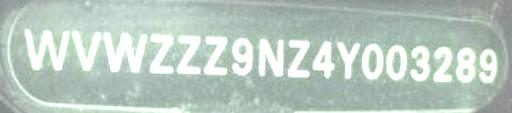letter: (21, 24, 67, 71), (100, 31, 144, 74), (68, 28, 100, 71), (144, 31, 174, 74), (254, 37, 286, 76), (202, 35, 230, 74), (176, 33, 200, 74), (286, 37, 310, 78), (312, 39, 336, 78), (336, 40, 360, 79), (434, 42, 456, 83), (385, 44, 409, 81), (232, 35, 254, 74), (410, 42, 432, 81), (456, 43, 476, 84), (478, 44, 498, 85), (362, 40, 382, 79)
